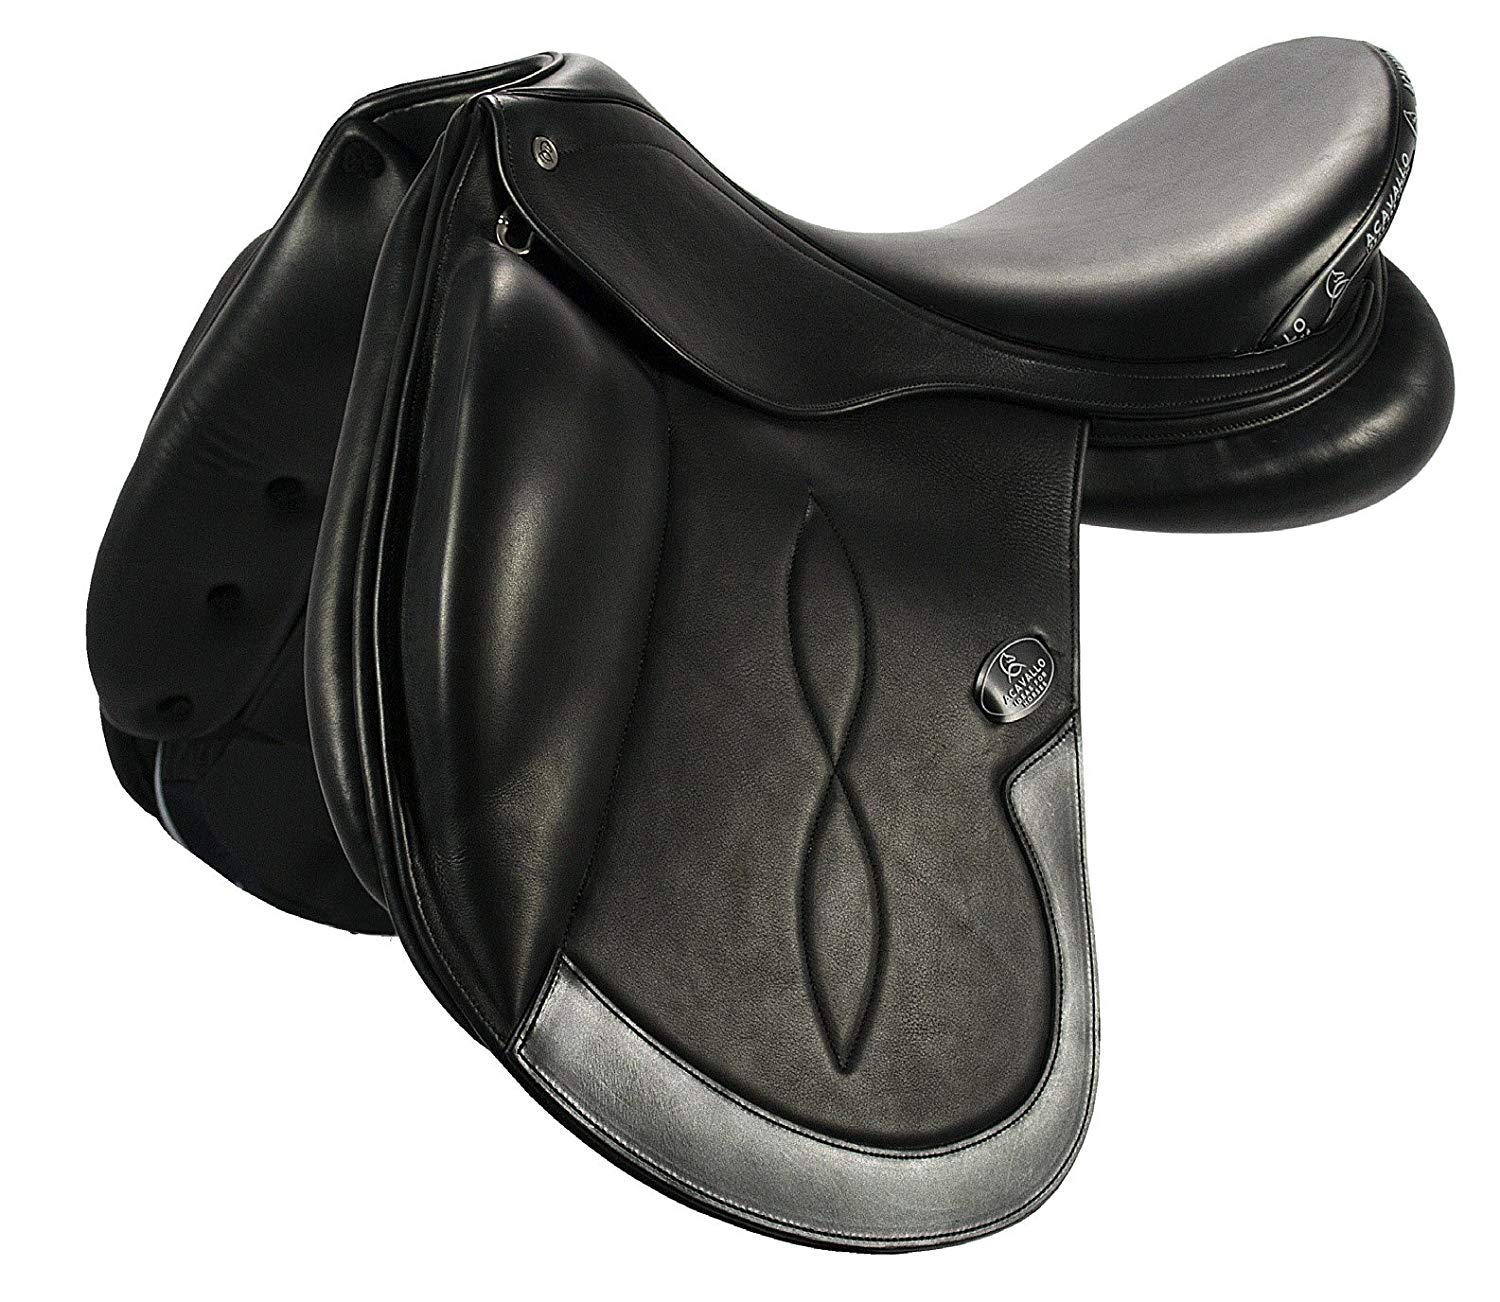saddle: (92, 51, 1464, 1053)
